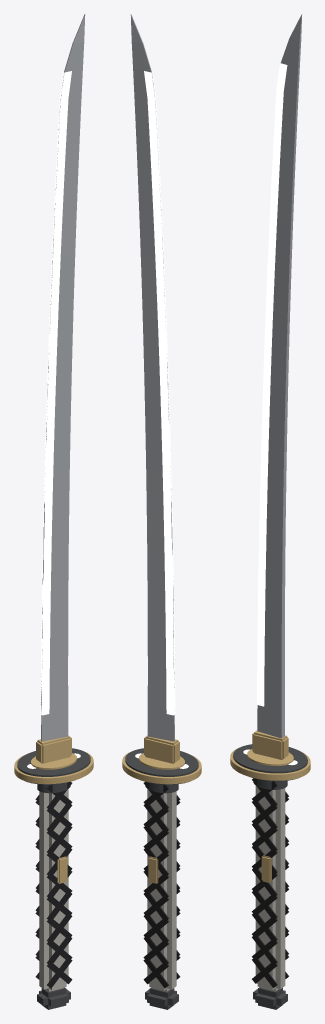
File: katana_0.glb
3 renders of one model, left to right at view 1: azimuth 30°, elevation 25°; view 2: azimuth 150°, elevation 25°; view 3: azimuth 330°, elevation 25°, orthographic.
Parts seen in each view (by area): view 1: katana_0_steel, katana_0_glow, katana_0_skin, katana_0_wrap, katana_0_brass, katana_0_dark_steel; view 2: katana_0_steel, katana_0_glow, katana_0_skin, katana_0_wrap, katana_0_brass, katana_0_dark_steel; view 3: katana_0_steel, katana_0_glow, katana_0_skin, katana_0_wrap, katana_0_brass, katana_0_dark_steel.
Boxes of the visible parts, bbox=[...] form: katana_0_steel: bbox=[41, 14, 85, 741]; katana_0_glow: bbox=[27, 71, 80, 768]; katana_0_skin: bbox=[39, 789, 68, 991]; katana_0_wrap: bbox=[35, 781, 72, 988]; katana_0_brass: bbox=[14, 735, 93, 883]; katana_0_dark_steel: bbox=[17, 748, 90, 1009]; katana_0_steel: bbox=[130, 14, 174, 741]; katana_0_glow: bbox=[135, 71, 188, 768]; katana_0_skin: bbox=[147, 789, 176, 991]; katana_0_wrap: bbox=[143, 781, 180, 988]; katana_0_brass: bbox=[122, 735, 201, 883]; katana_0_dark_steel: bbox=[125, 748, 198, 1009]; katana_0_steel: bbox=[257, 14, 302, 738]; katana_0_glow: bbox=[243, 63, 297, 765]; katana_0_skin: bbox=[255, 785, 285, 991]; katana_0_wrap: bbox=[252, 778, 288, 987]; katana_0_brass: bbox=[230, 730, 310, 883]; katana_0_dark_steel: bbox=[233, 744, 307, 1009].
Bounding box in the file's own units: 0.088 × 1.15 × 0.0722.
